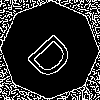D: (25, 25, 83, 83)
